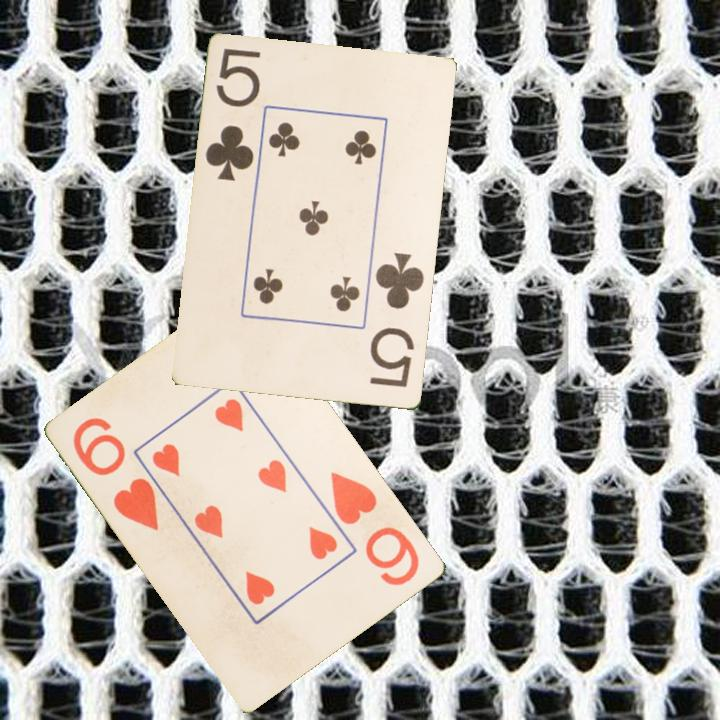5c: (367, 249, 428, 391), (202, 45, 264, 184)
6h: (327, 468, 423, 589), (69, 413, 164, 534)
